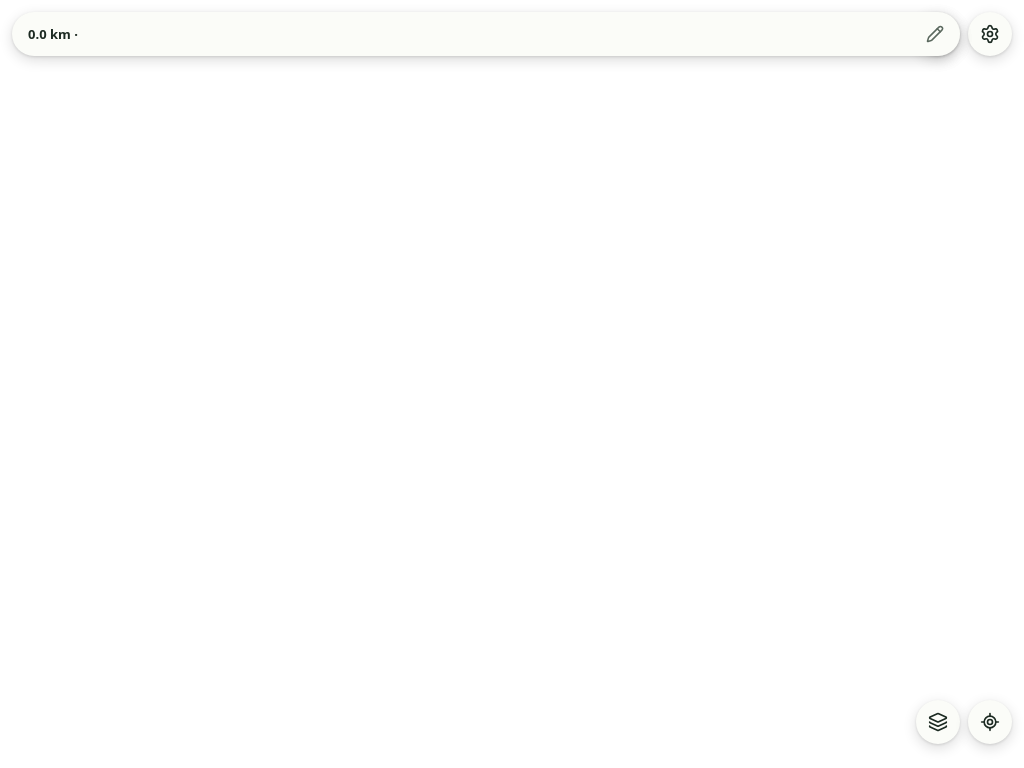
Test: CriteriaView › criteria › where the server cannot route › lets a start point inside the cells search again
The image size is (1024, 768).
Click the button with test id "criteria-bar".
click(53, 34)  # box [12,12,960,56]
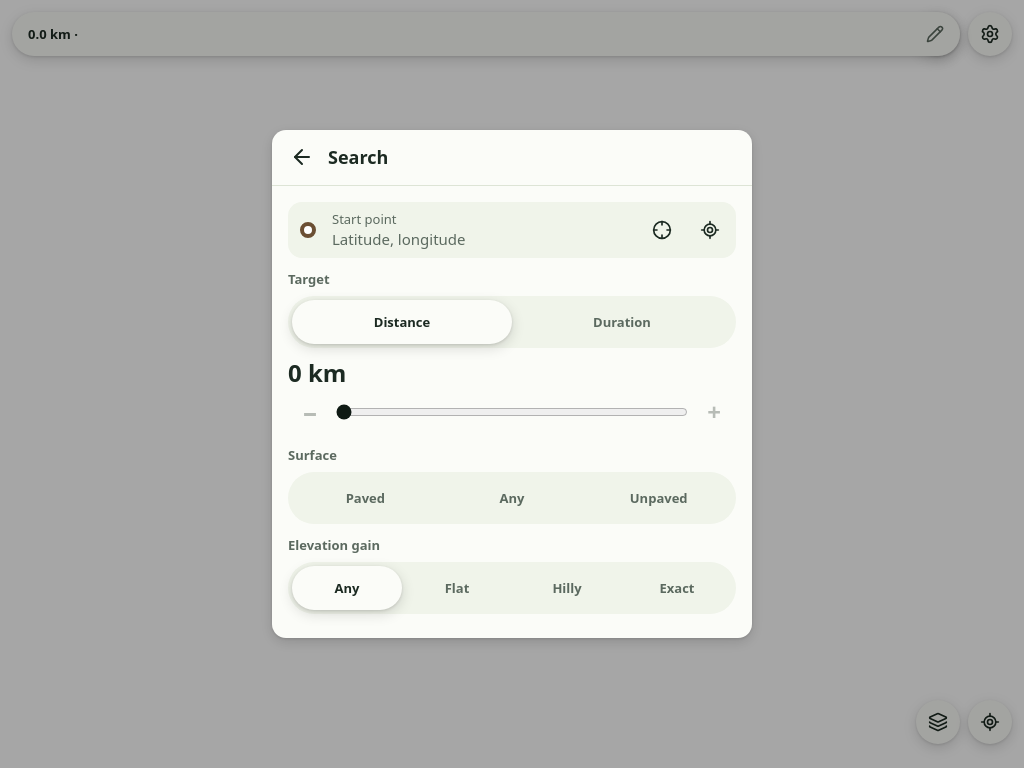
Type "48.8, 2.3" into the field with test id "criteria-start".
click(478, 239); type("48.8, 2.3")  # box [332,228,624,250]
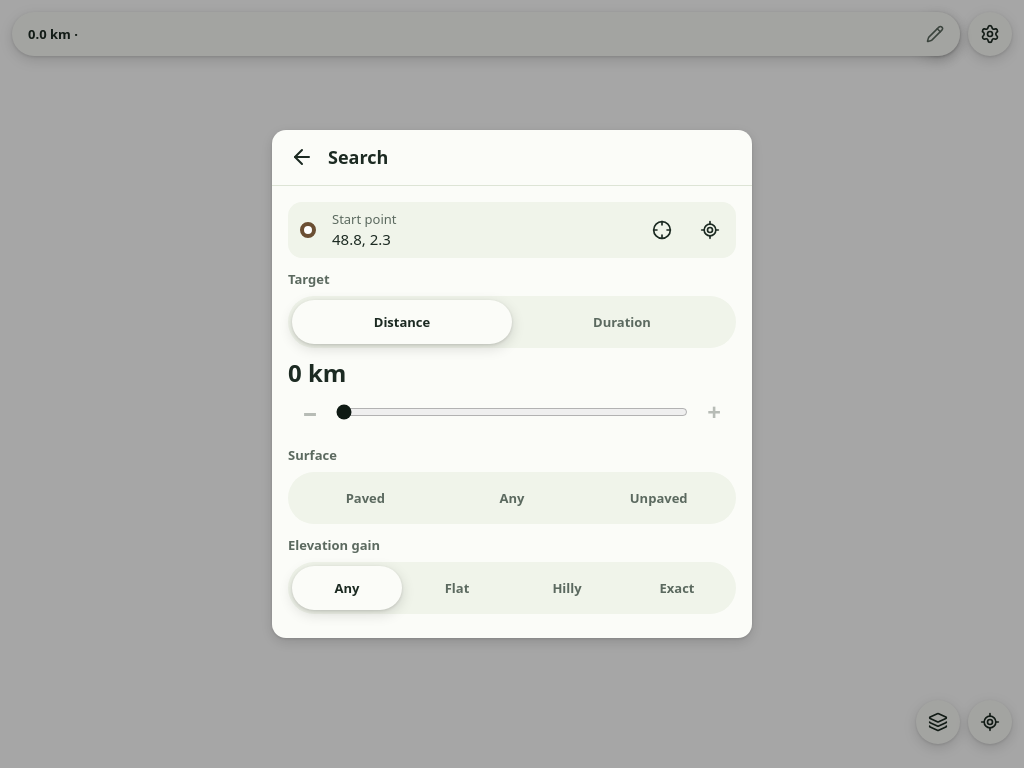
Press Enter in the field with test id "criteria-start", box [332,228,624,250]
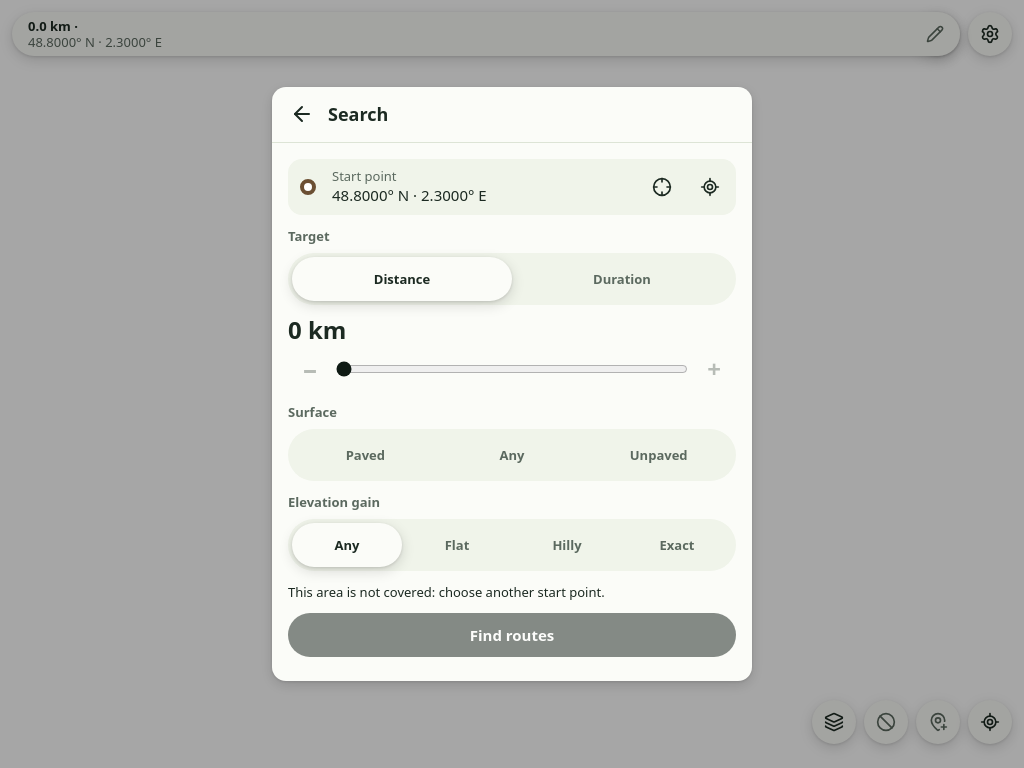
Result: the button with test id "criteria-submit" is disabled at [288,613,736,657]
Replace the text in the field with test id "criteria-start" with "45.85, 6.05" at (478, 196), box [332,185,624,206]
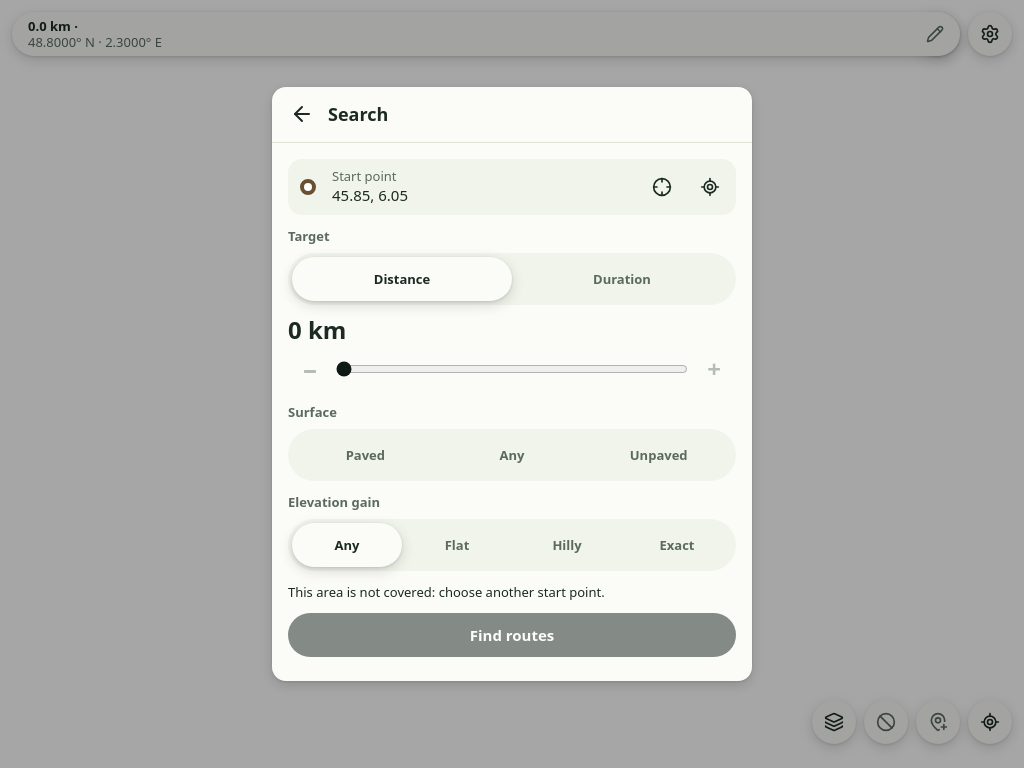
Press Enter in the field with test id "criteria-start", box [332,185,624,206]
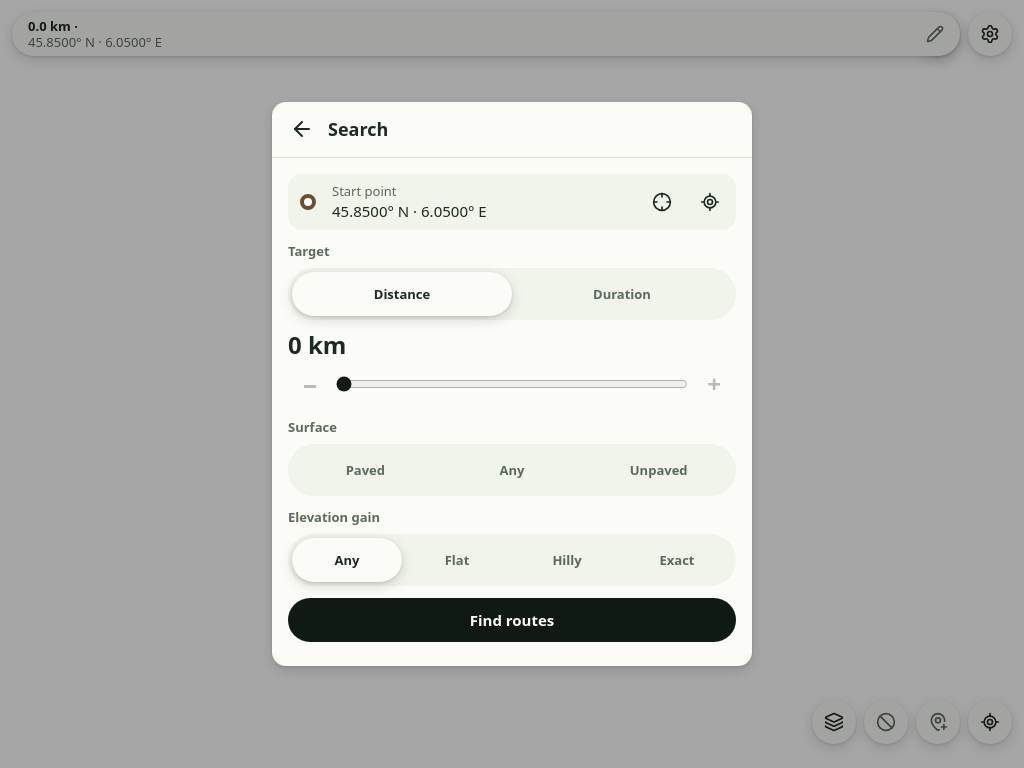
Result: the button with test id "criteria-submit" is enabled at [288,598,736,642]
Result: the message with test id "criteria-uncovered" is gone
